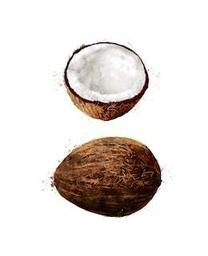coconut: (54, 136, 162, 217), (65, 42, 149, 121)
